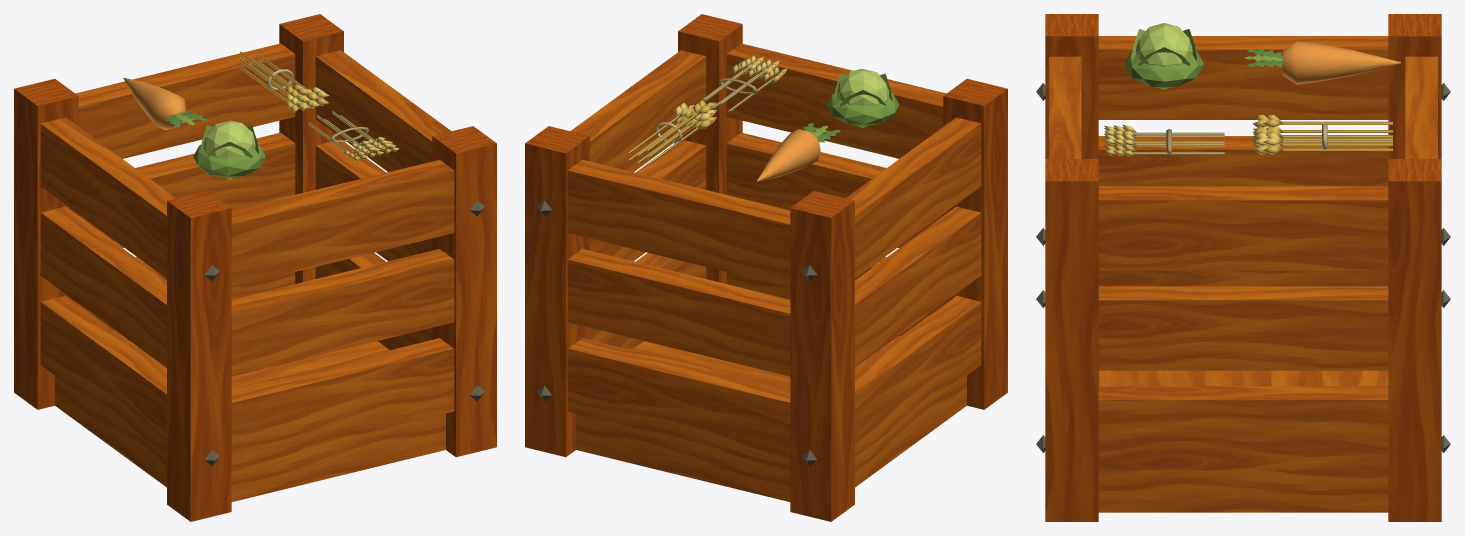
File: farm-collection-box-15.gltf
The picture shows the model from 3 angles, left to right: view 1: azimuth 30°, elevation 25°; view 2: azimuth 150°, elevation 25°; view 3: azimuth 270°, elevation 25°; orthographic projection. The views are drawn at different scales.
Visible parts, largest first — view 1: farm-collection-box-15; view 2: farm-collection-box-15; view 3: farm-collection-box-15.
Part boxes in pixels (x1=…): farm-collection-box-15: x1=14, y1=14, x2=496, y2=521; farm-collection-box-15: x1=525, y1=14, x2=1007, y2=521; farm-collection-box-15: x1=1036, y1=14, x2=1450, y2=521.
Size of the model in its own units: 0.8002 by 0.8448 by 0.8382.
Materials: 2 (1 with a texture image).
